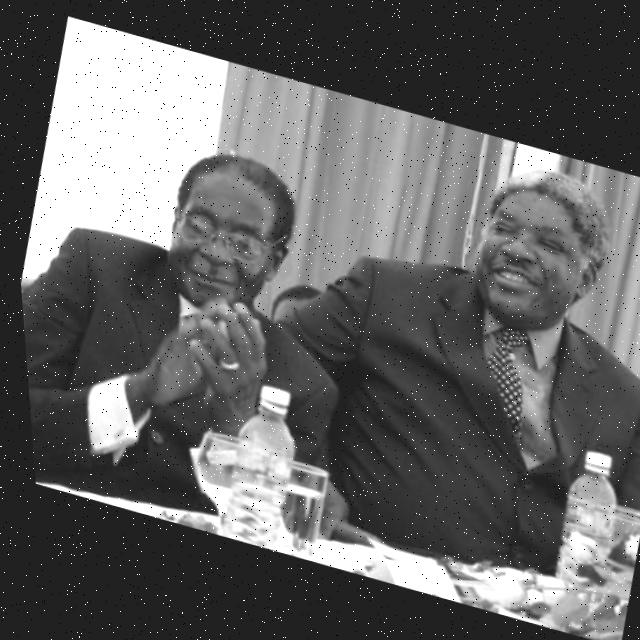face: (164, 157, 303, 332), (472, 189, 621, 345)
